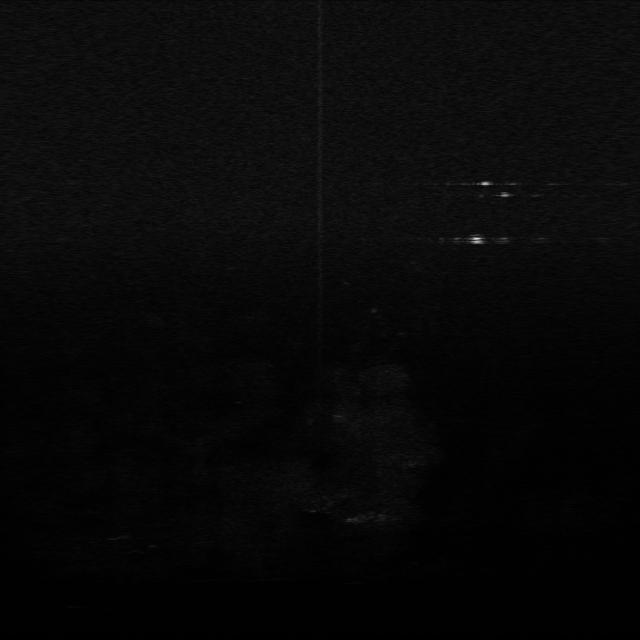rov: (466, 233, 486, 248)
